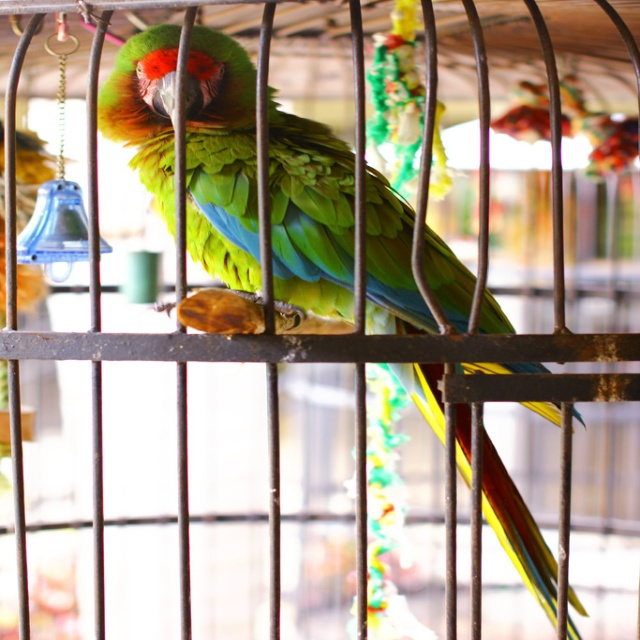Parrot: (82, 18, 588, 638)
